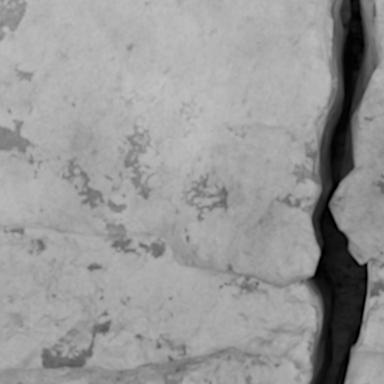broken_brick: (0, 0, 328, 288), (0, 346, 309, 383), (331, 54, 383, 262), (351, 350, 383, 383), (377, 0, 383, 46)
crack: (301, 0, 383, 383)
